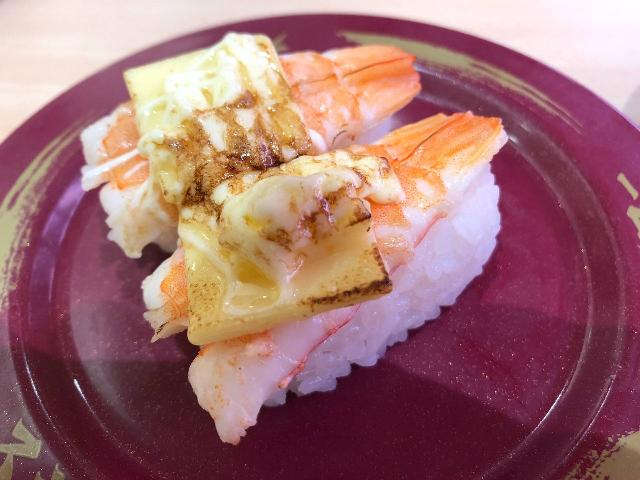janred: (12, 46, 638, 479)
